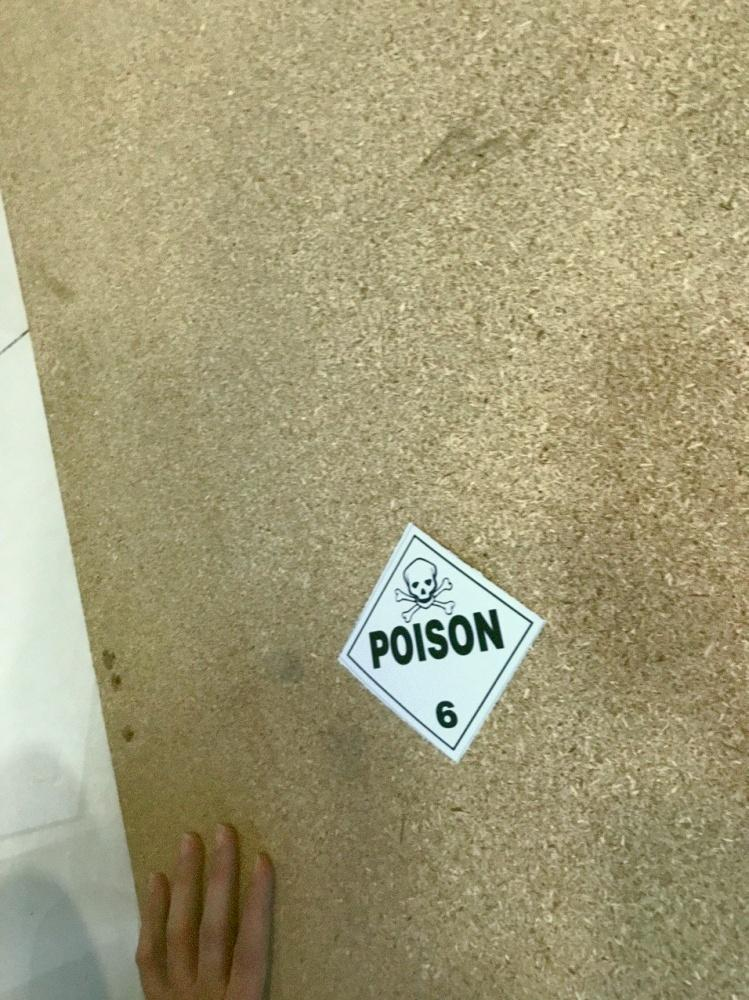poison: (336, 523, 550, 769)
